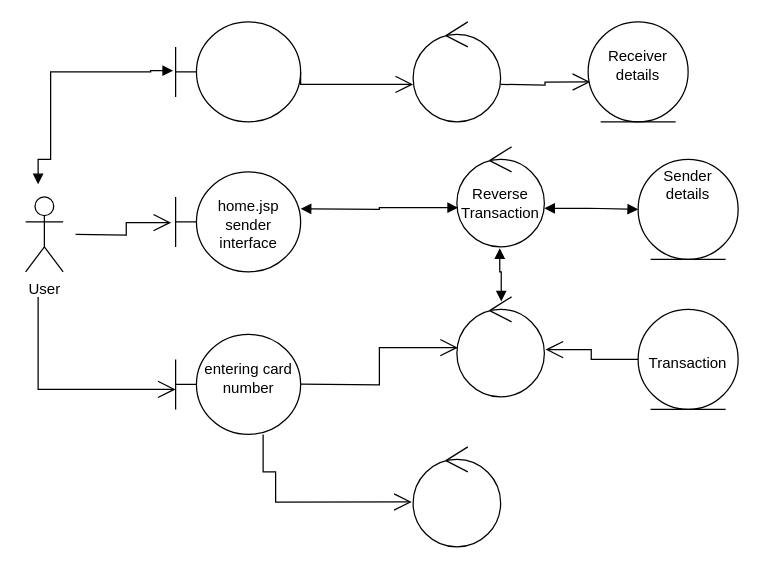
The diagram is 760 pixels wide and 569 high, and some of its shapes have lost their labels. The shapes that lost their labels are listed below. From the top down, each one's centre as x and y in pixels, then its label:
At (x=237, y=71): "Properties.jsp interface".
At (x=456, y=71): "Properties record".
At (x=500, y=346): "bank client".
At (x=456, y=496): "Card number checker".
